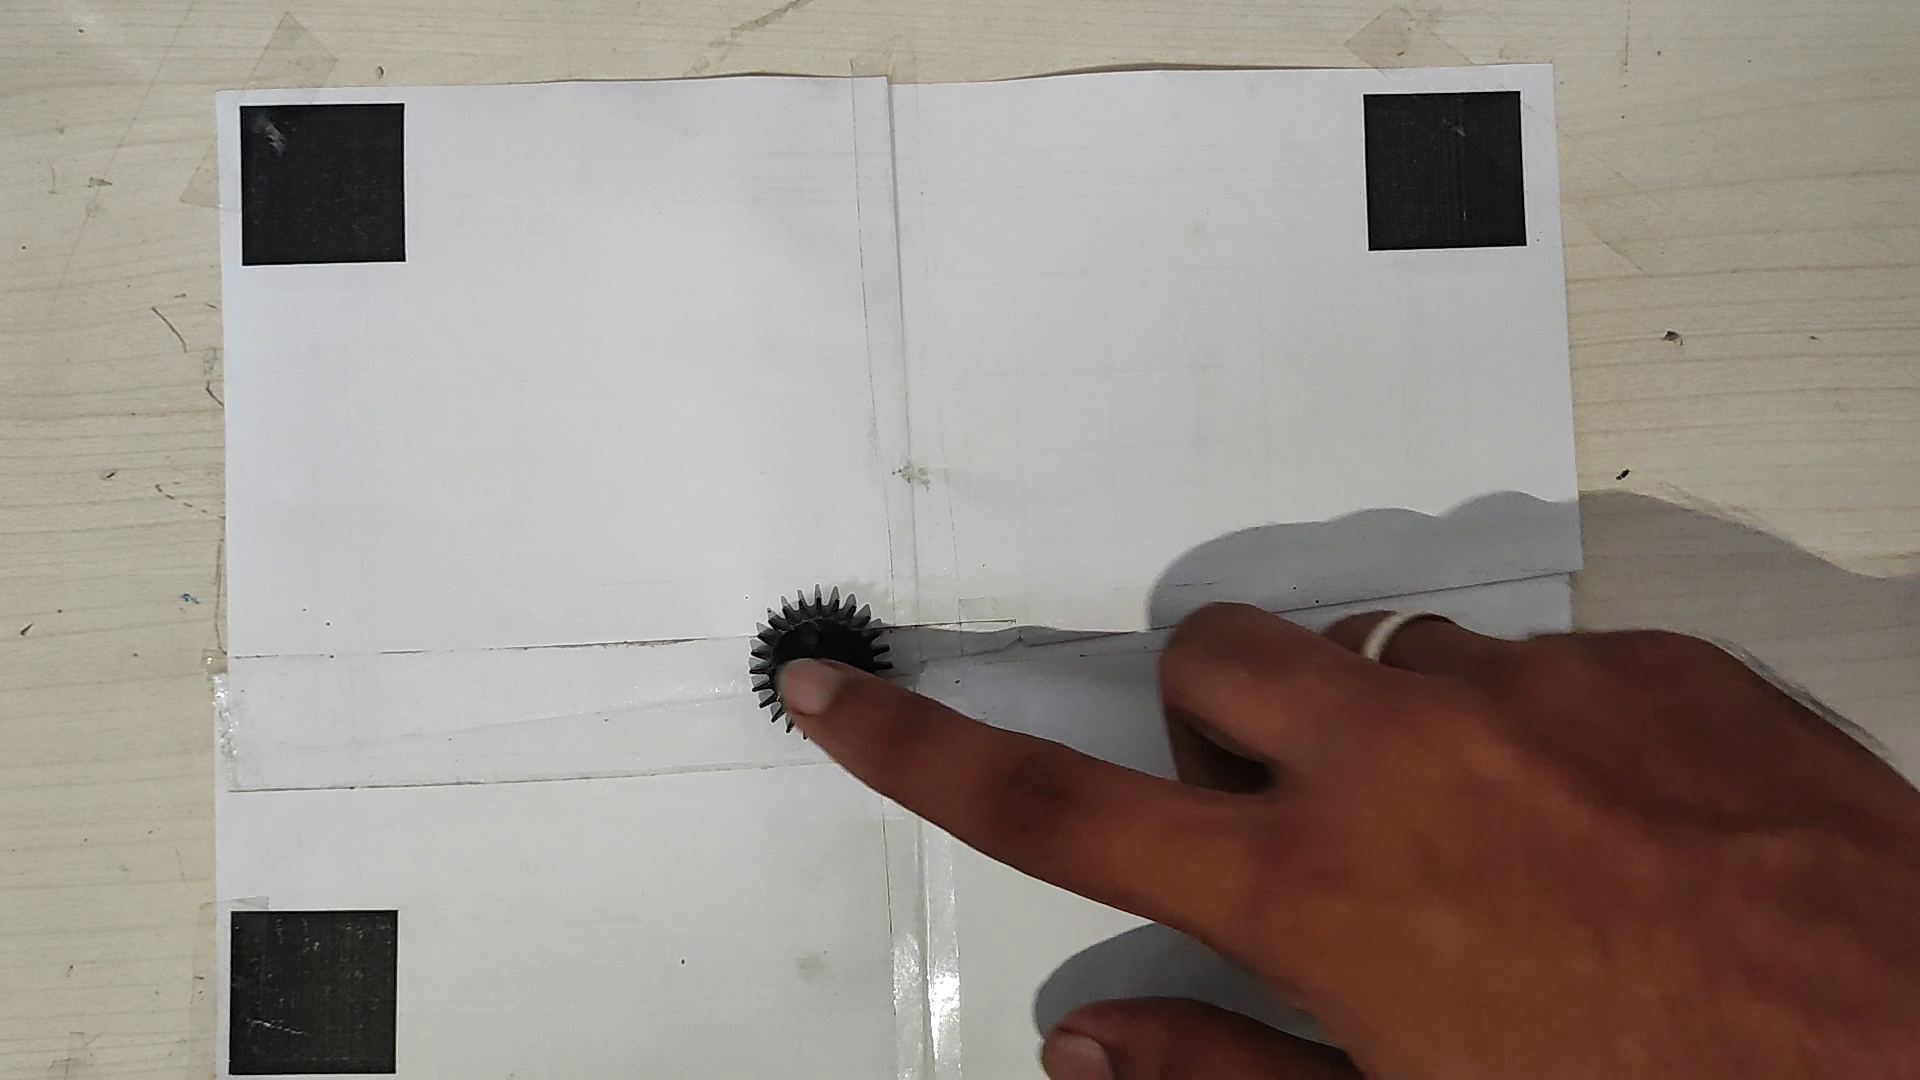Gear: (745, 583, 902, 748)
